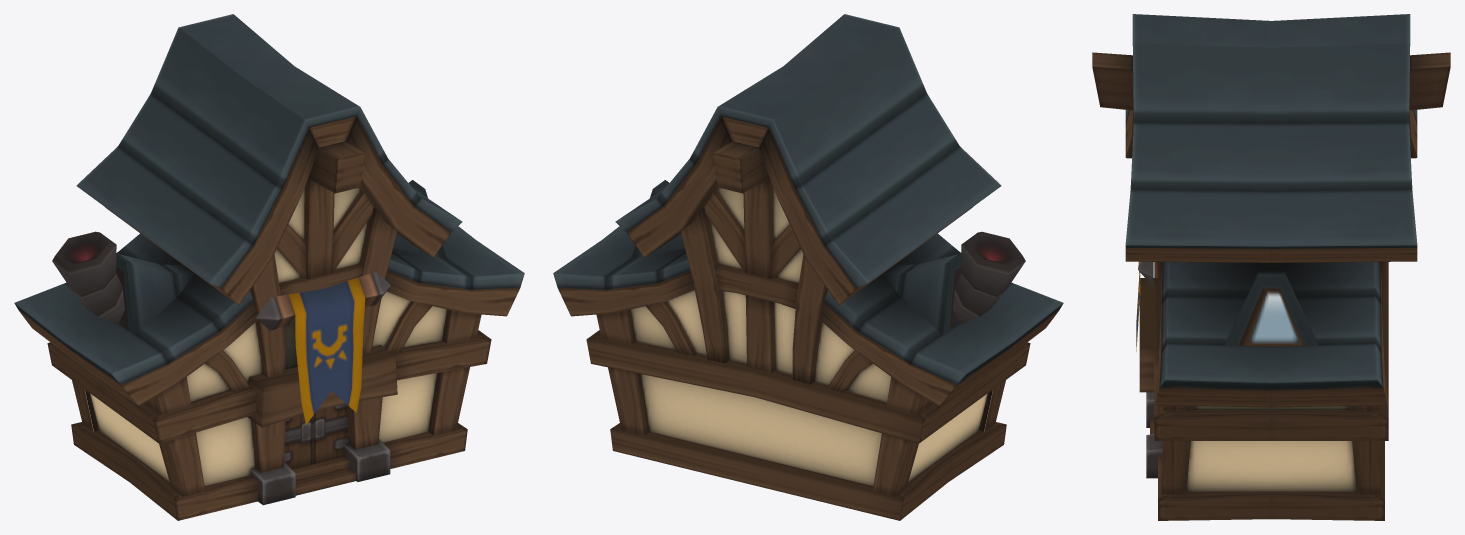
Rendered from small_house.glb.
3 renders of one model, left to right at view 1: azimuth 30°, elevation 25°; view 2: azimuth 150°, elevation 25°; view 3: azimuth 270°, elevation 25°, orthographic. The views are drawn at different scales.
Visible parts, largest first — view 1: Object_2; view 2: Object_2; view 3: Object_2.
Boxes of the visible parts, x1=… form: Object_2: x1=14, y1=14, x2=524, y2=520; Object_2: x1=553, y1=14, x2=1063, y2=520; Object_2: x1=1092, y1=14, x2=1450, y2=520.
Size of the model in its own units: 29.37 by 25.69 by 20.06.
1 material, 1 textured.
